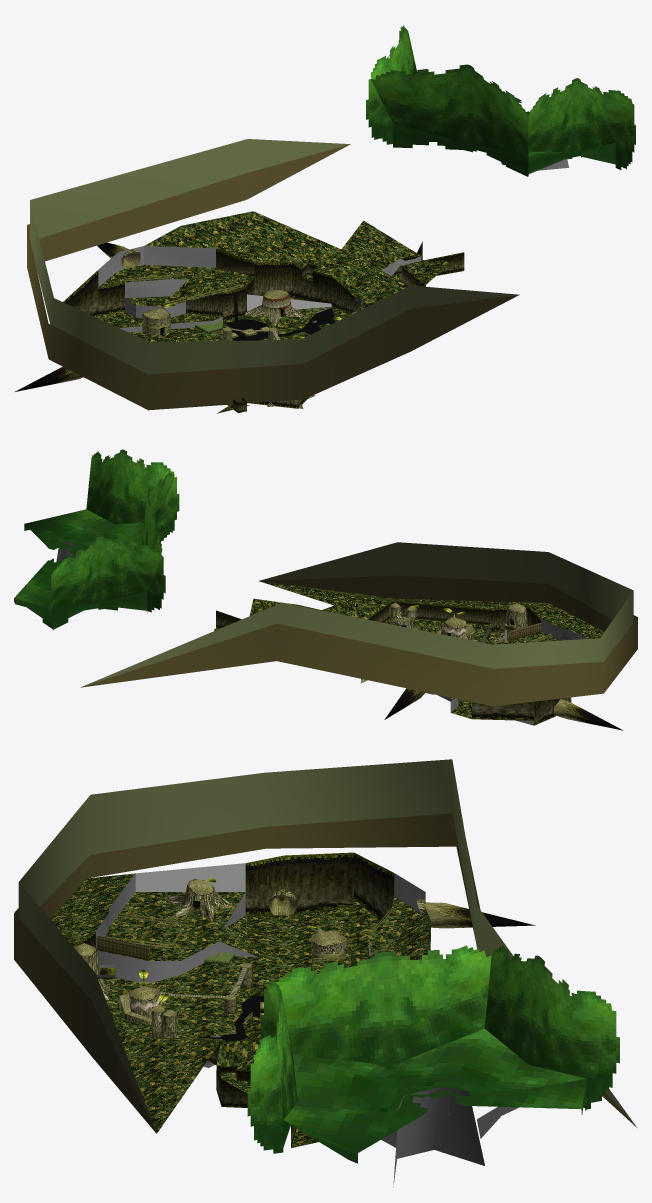
The model's file is Room_0.fbx.
3 renders of one model, top to bottom at view 1: azimuth 30°, elevation 25°; view 2: azimuth 150°, elevation 25°; view 3: azimuth 270°, elevation 25°, orthographic. The views are drawn at different scales.
Parts seen in each view (by area): view 1: ob_0300AB10, ob_0300AC70, ob_030054B0, ob_03004600, ob_03002800, ob_03001A30, ob_03001AB0, ob_03017980, ob_03001910, ob_03001B40, ob_030019E0, ob_03001C30 (+2 smaller); view 2: ob_0300AB10, ob_0300AC70, ob_030054B0, ob_03004600, ob_03001270, ob_030019E0, ob_030014A0, ob_03005DE0, ob_03002800, ob_03001680, ob_03006180, ob_030072A0; view 3: ob_030054B0, ob_03004600, ob_0300AC70, ob_0300AB10, ob_030014A0, ob_03004D20, ob_03001330, ob_03001610, ob_030019E0, ob_03006180, ob_03002800, ob_030099C0 (+7 smaller).
Boxes of the visible parts, x1=… form: ob_0300AB10: x1=27, y1=144, x2=519, y2=410; ob_0300AC70: x1=30, y1=139, x2=518, y2=374; ob_030054B0: x1=366, y1=25, x2=635, y2=176; ob_03004600: x1=96, y1=211, x2=452, y2=413; ob_03002800: x1=292, y1=241, x2=464, y2=313; ob_03001A30: x1=98, y1=246, x2=215, y2=287; ob_03001AB0: x1=98, y1=248, x2=254, y2=315; ob_03017980: x1=226, y1=308, x2=335, y2=340; ob_03001910: x1=254, y1=262, x2=291, y2=297; ob_03001B40: x1=125, y1=279, x2=187, y2=298; ob_030019E0: x1=63, y1=270, x2=98, y2=317; ob_03001C30: x1=186, y1=277, x2=254, y2=316; ob_0300AB10: x1=80, y1=575, x2=637, y2=706; ob_0300AC70: x1=82, y1=542, x2=633, y2=686; ob_030054B0: x1=14, y1=449, x2=179, y2=630; ob_03004600: x1=216, y1=581, x2=604, y2=718; ob_03001270: x1=392, y1=601, x2=536, y2=631; ob_030019E0: x1=472, y1=701, x2=533, y2=720; ob_030014A0: x1=489, y1=607, x2=571, y2=725; ob_03005DE0: x1=553, y1=698, x2=623, y2=730; ob_03002800: x1=214, y1=601, x2=391, y2=630; ob_03001680: x1=541, y1=619, x2=586, y2=640; ob_03006180: x1=384, y1=688, x2=426, y2=719; ob_030072A0: x1=490, y1=609, x2=527, y2=642; ob_030054B0: x1=247, y1=945, x2=619, y2=1163; ob_03004600: x1=50, y1=873, x2=430, y2=1148; ob_0300AC70: x1=18, y1=759, x2=636, y2=1131; ob_0300AB10: x1=14, y1=813, x2=636, y2=1132; ob_030014A0: x1=73, y1=852, x2=353, y2=947; ob_03004D20: x1=381, y1=1087, x2=518, y2=1186; ob_03001330: x1=97, y1=892, x2=259, y2=983; ob_03001610: x1=135, y1=863, x2=245, y2=891; ob_030019E0: x1=354, y1=852, x2=394, y2=922; ob_03006180: x1=417, y1=902, x2=535, y2=928; ob_03002800: x1=207, y1=1042, x2=296, y2=1147; ob_030099C0: x1=164, y1=886, x2=234, y2=922.
Bounding box in the file's own units: 157 × 42.37 × 101.
